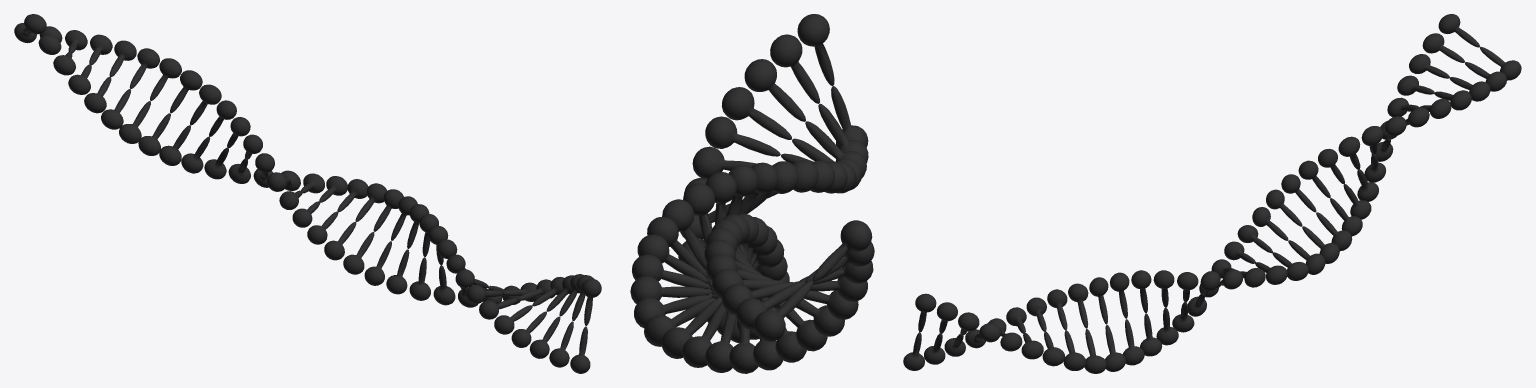
3 views of the same model, side by side, from view 1: azimuth 30°, elevation 25°; view 2: azimuth 150°, elevation 25°; view 3: azimuth 270°, elevation 25° (orthographic). The views are drawn at different scales.
Visible parts, largest first — view 1: defaultMaterial; view 2: defaultMaterial; view 3: defaultMaterial.
Part boxes in pixels (x1,y1,x2,y2): defaultMaterial: (14, 14, 601, 373); defaultMaterial: (630, 14, 874, 373); defaultMaterial: (903, 14, 1521, 373).
Bounding box in the file's own units: 2048 × 1416 × 3460.
Materials: 1 (1 with a texture image).
